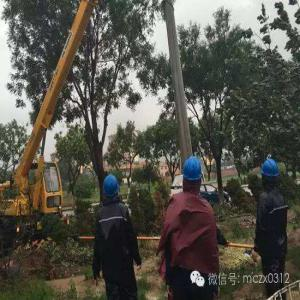blue: (182, 156, 203, 193), (261, 158, 280, 189), (102, 174, 121, 203)
